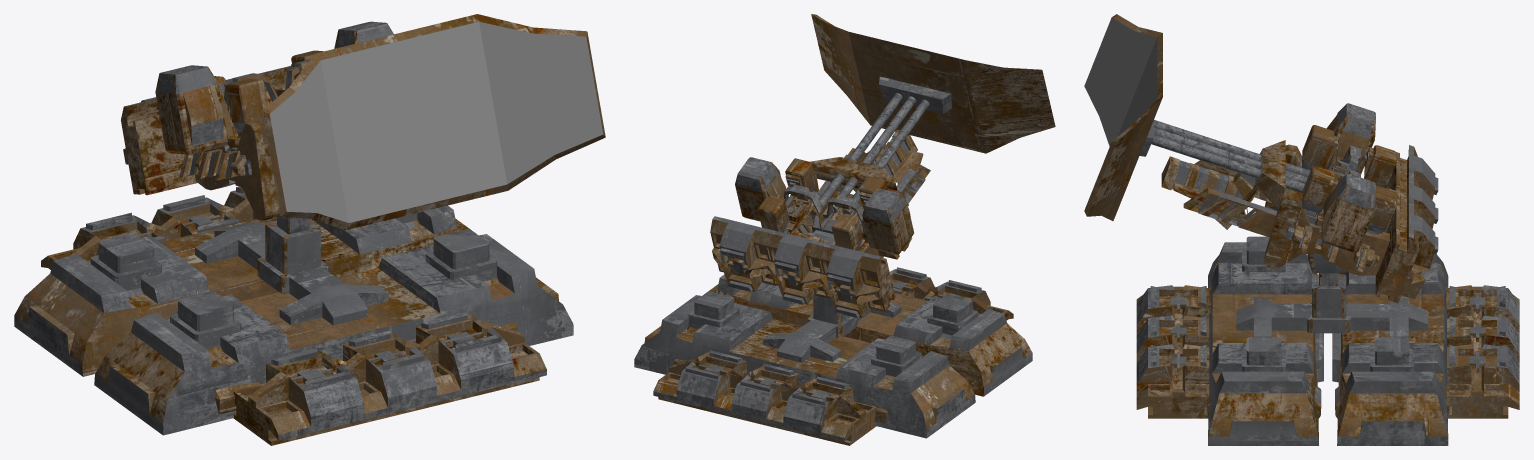
Rendered from Main_Satalitenstation.gltf.
3 views of the same model, side by side, from view 1: azimuth 30°, elevation 25°; view 2: azimuth 150°, elevation 25°; view 3: azimuth 270°, elevation 25° (orthographic). The views are drawn at different scales.
Visible parts, largest first — view 1: Main_Satalitenstation_Base_Part, Main_Satalitenstation_Top; view 2: Main_Satalitenstation_Base_Part, Main_Satalitenstation_Top; view 3: Main_Satalitenstation_Base_Part, Main_Satalitenstation_Top.
Part boxes in pixels (box(x1,y1,x2,y2)): Main_Satalitenstation_Base_Part: box(14, 186, 573, 445); Main_Satalitenstation_Top: box(121, 14, 605, 230); Main_Satalitenstation_Base_Part: box(634, 267, 1032, 445); Main_Satalitenstation_Top: box(710, 14, 1055, 317); Main_Satalitenstation_Base_Part: box(1136, 236, 1519, 445); Main_Satalitenstation_Top: box(1084, 14, 1438, 303).
Bounding box in the file's own units: 7.11 × 6.17 × 8.1.
3 materials, 2 textured.
